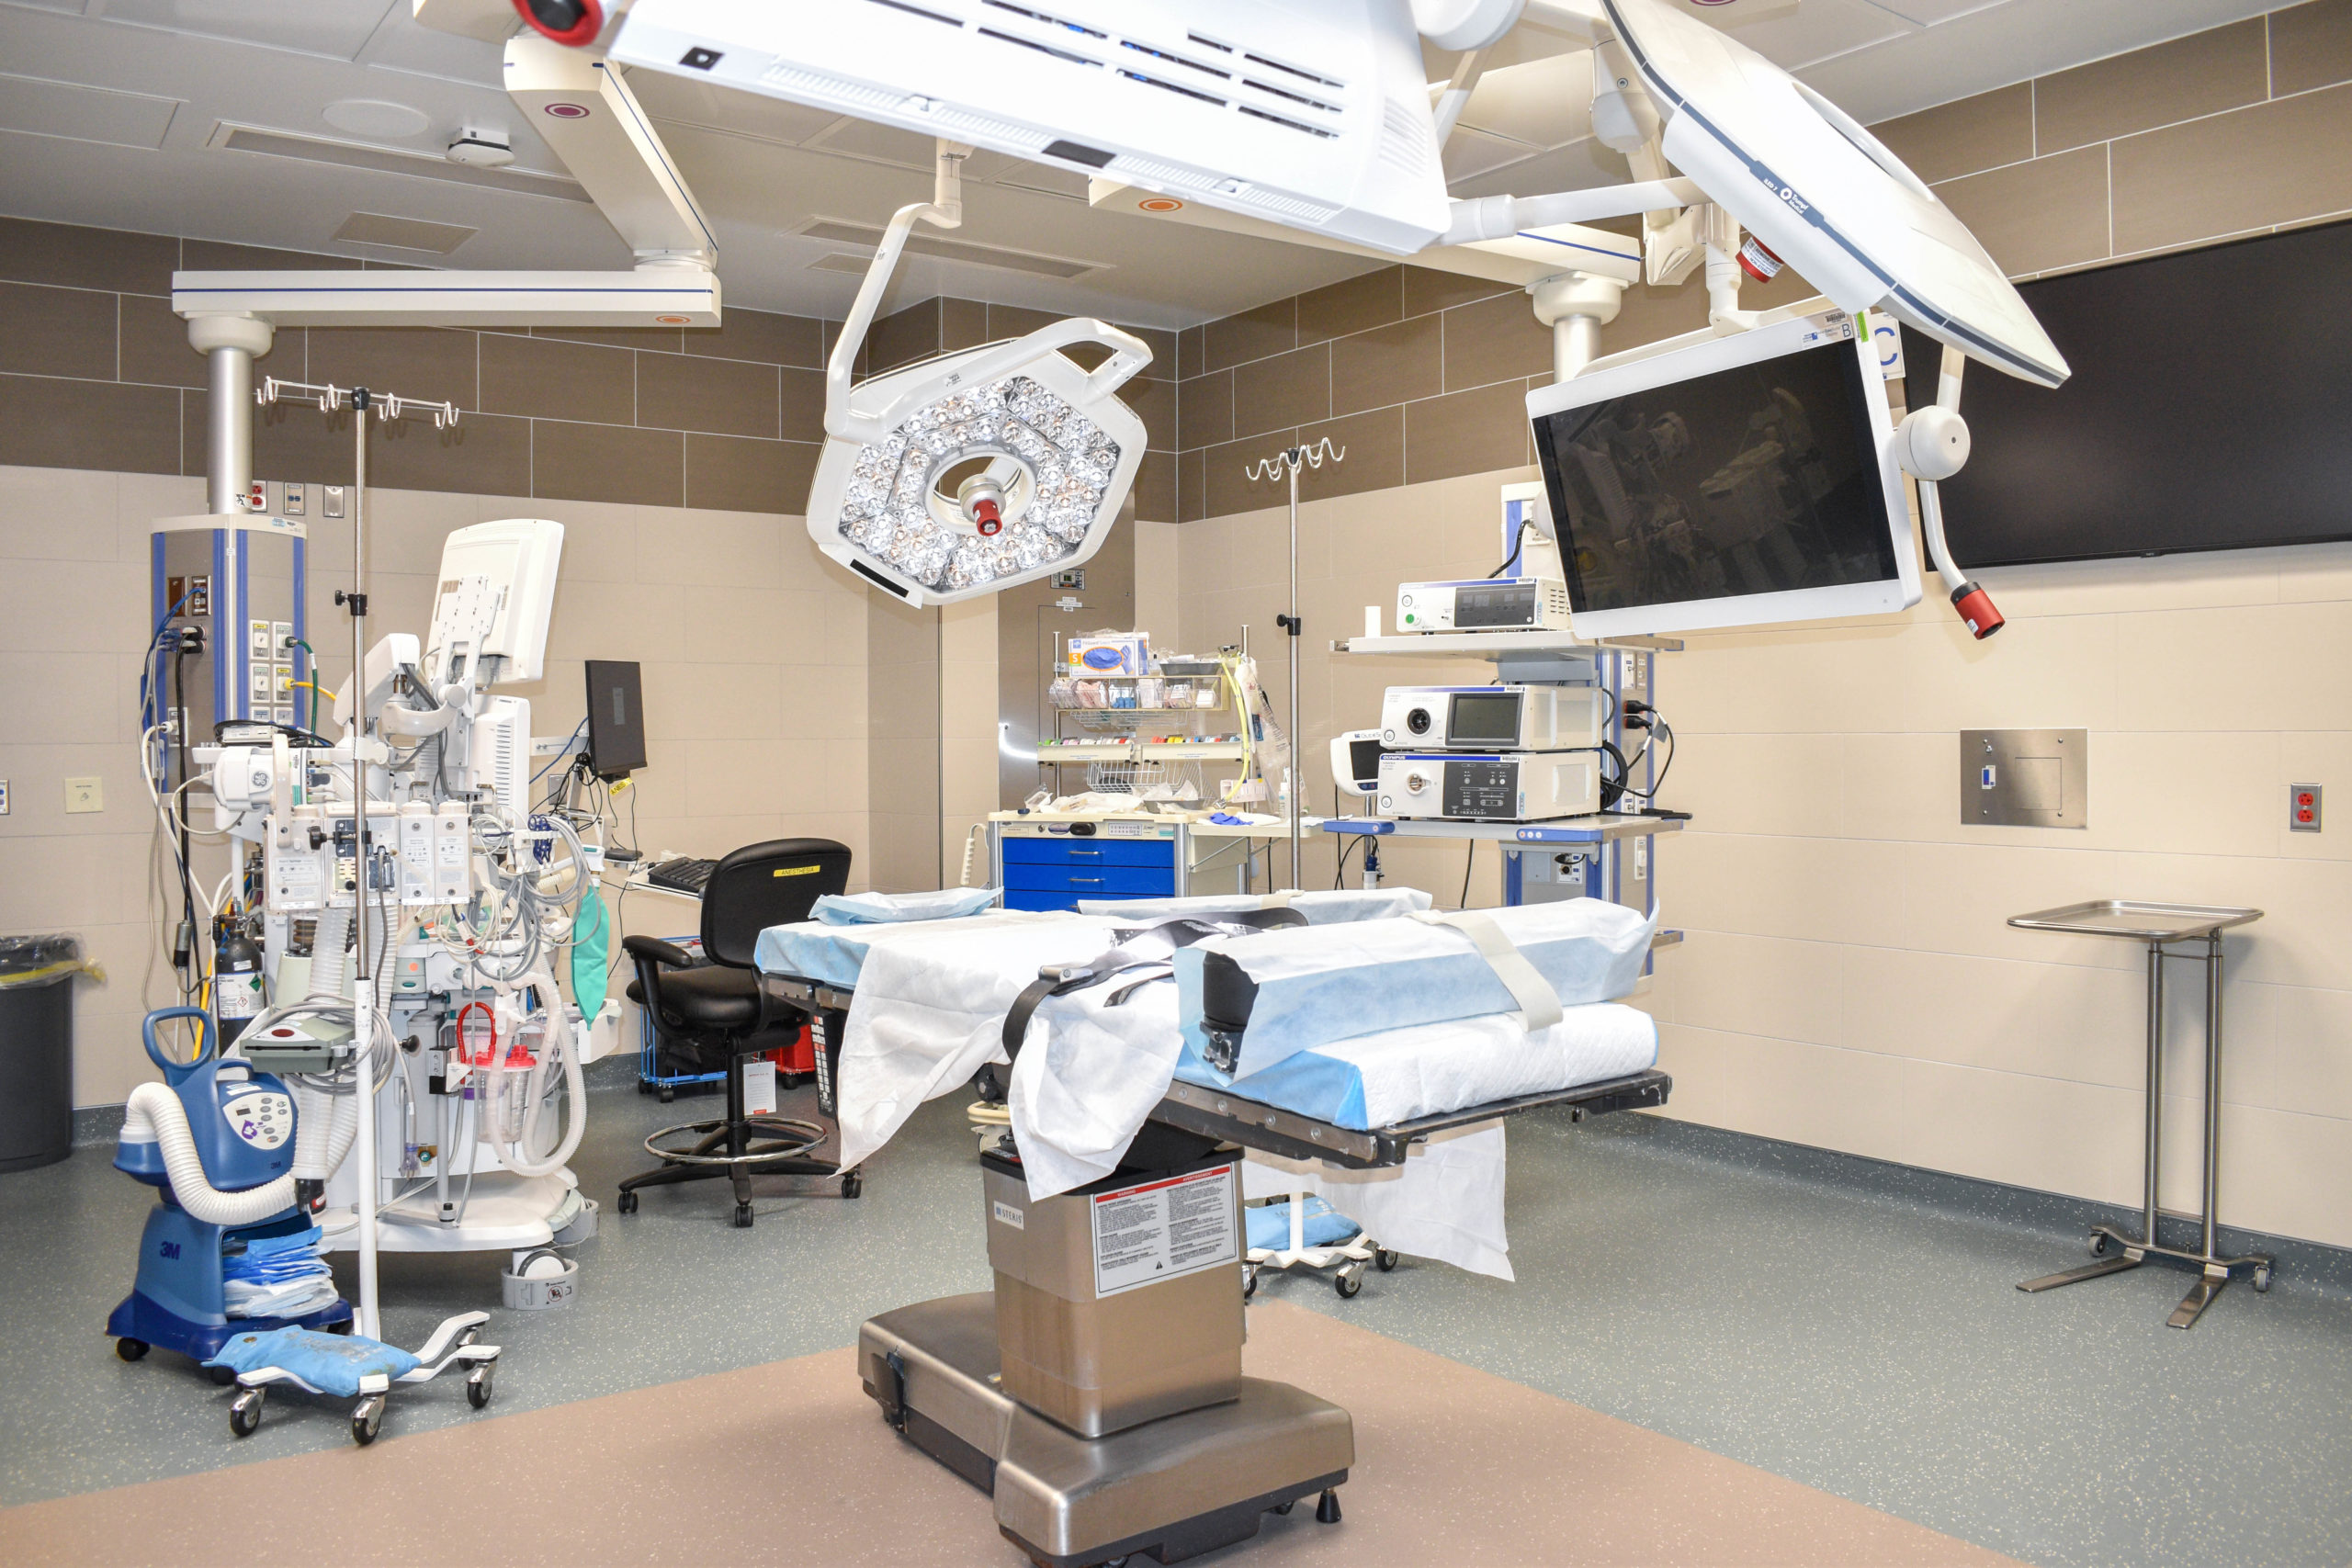bedside_monitor: (1526, 322, 1951, 637)
breathing_tube: (472, 989, 588, 1181)
chair: (623, 843, 856, 1221)
computer: (586, 656, 647, 779)
electrosurgical_unit: (1381, 672, 1592, 754), (1389, 751, 1594, 831)
iv_pole: (255, 374, 455, 1379), (1239, 441, 1347, 875)
keyboard: (649, 857, 719, 894)
medical_drawer: (987, 802, 1197, 910)
operating_bed: (751, 889, 1673, 1568)
surgical_light: (801, 306, 1151, 604)
utility_cart: (2000, 863, 2271, 1316)
ventilator: (248, 514, 612, 1274)
waste_bin: (2, 924, 79, 1178)
